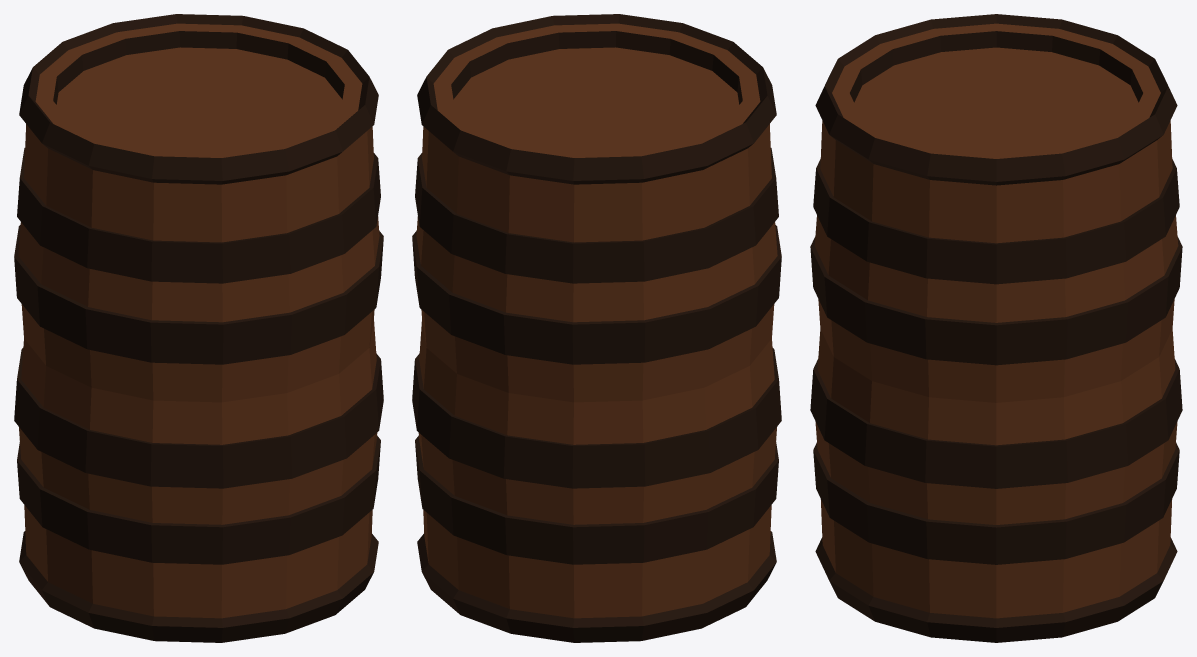
The model's file is Barrel.fbx.
3 views of the same model, side by side, from view 1: azimuth 30°, elevation 25°; view 2: azimuth 150°, elevation 25°; view 3: azimuth 270°, elevation 25° (orthographic).
Parts seen in each view (by area): view 1: Cylinder; view 2: Cylinder; view 3: Cylinder.
Boxes of the visible parts, x1,y1,x2,y2 form: Cylinder: [14, 14, 383, 642]; Cylinder: [412, 14, 781, 642]; Cylinder: [810, 14, 1182, 642].
Bounding box in the file's own units: 215 × 308 × 215.
